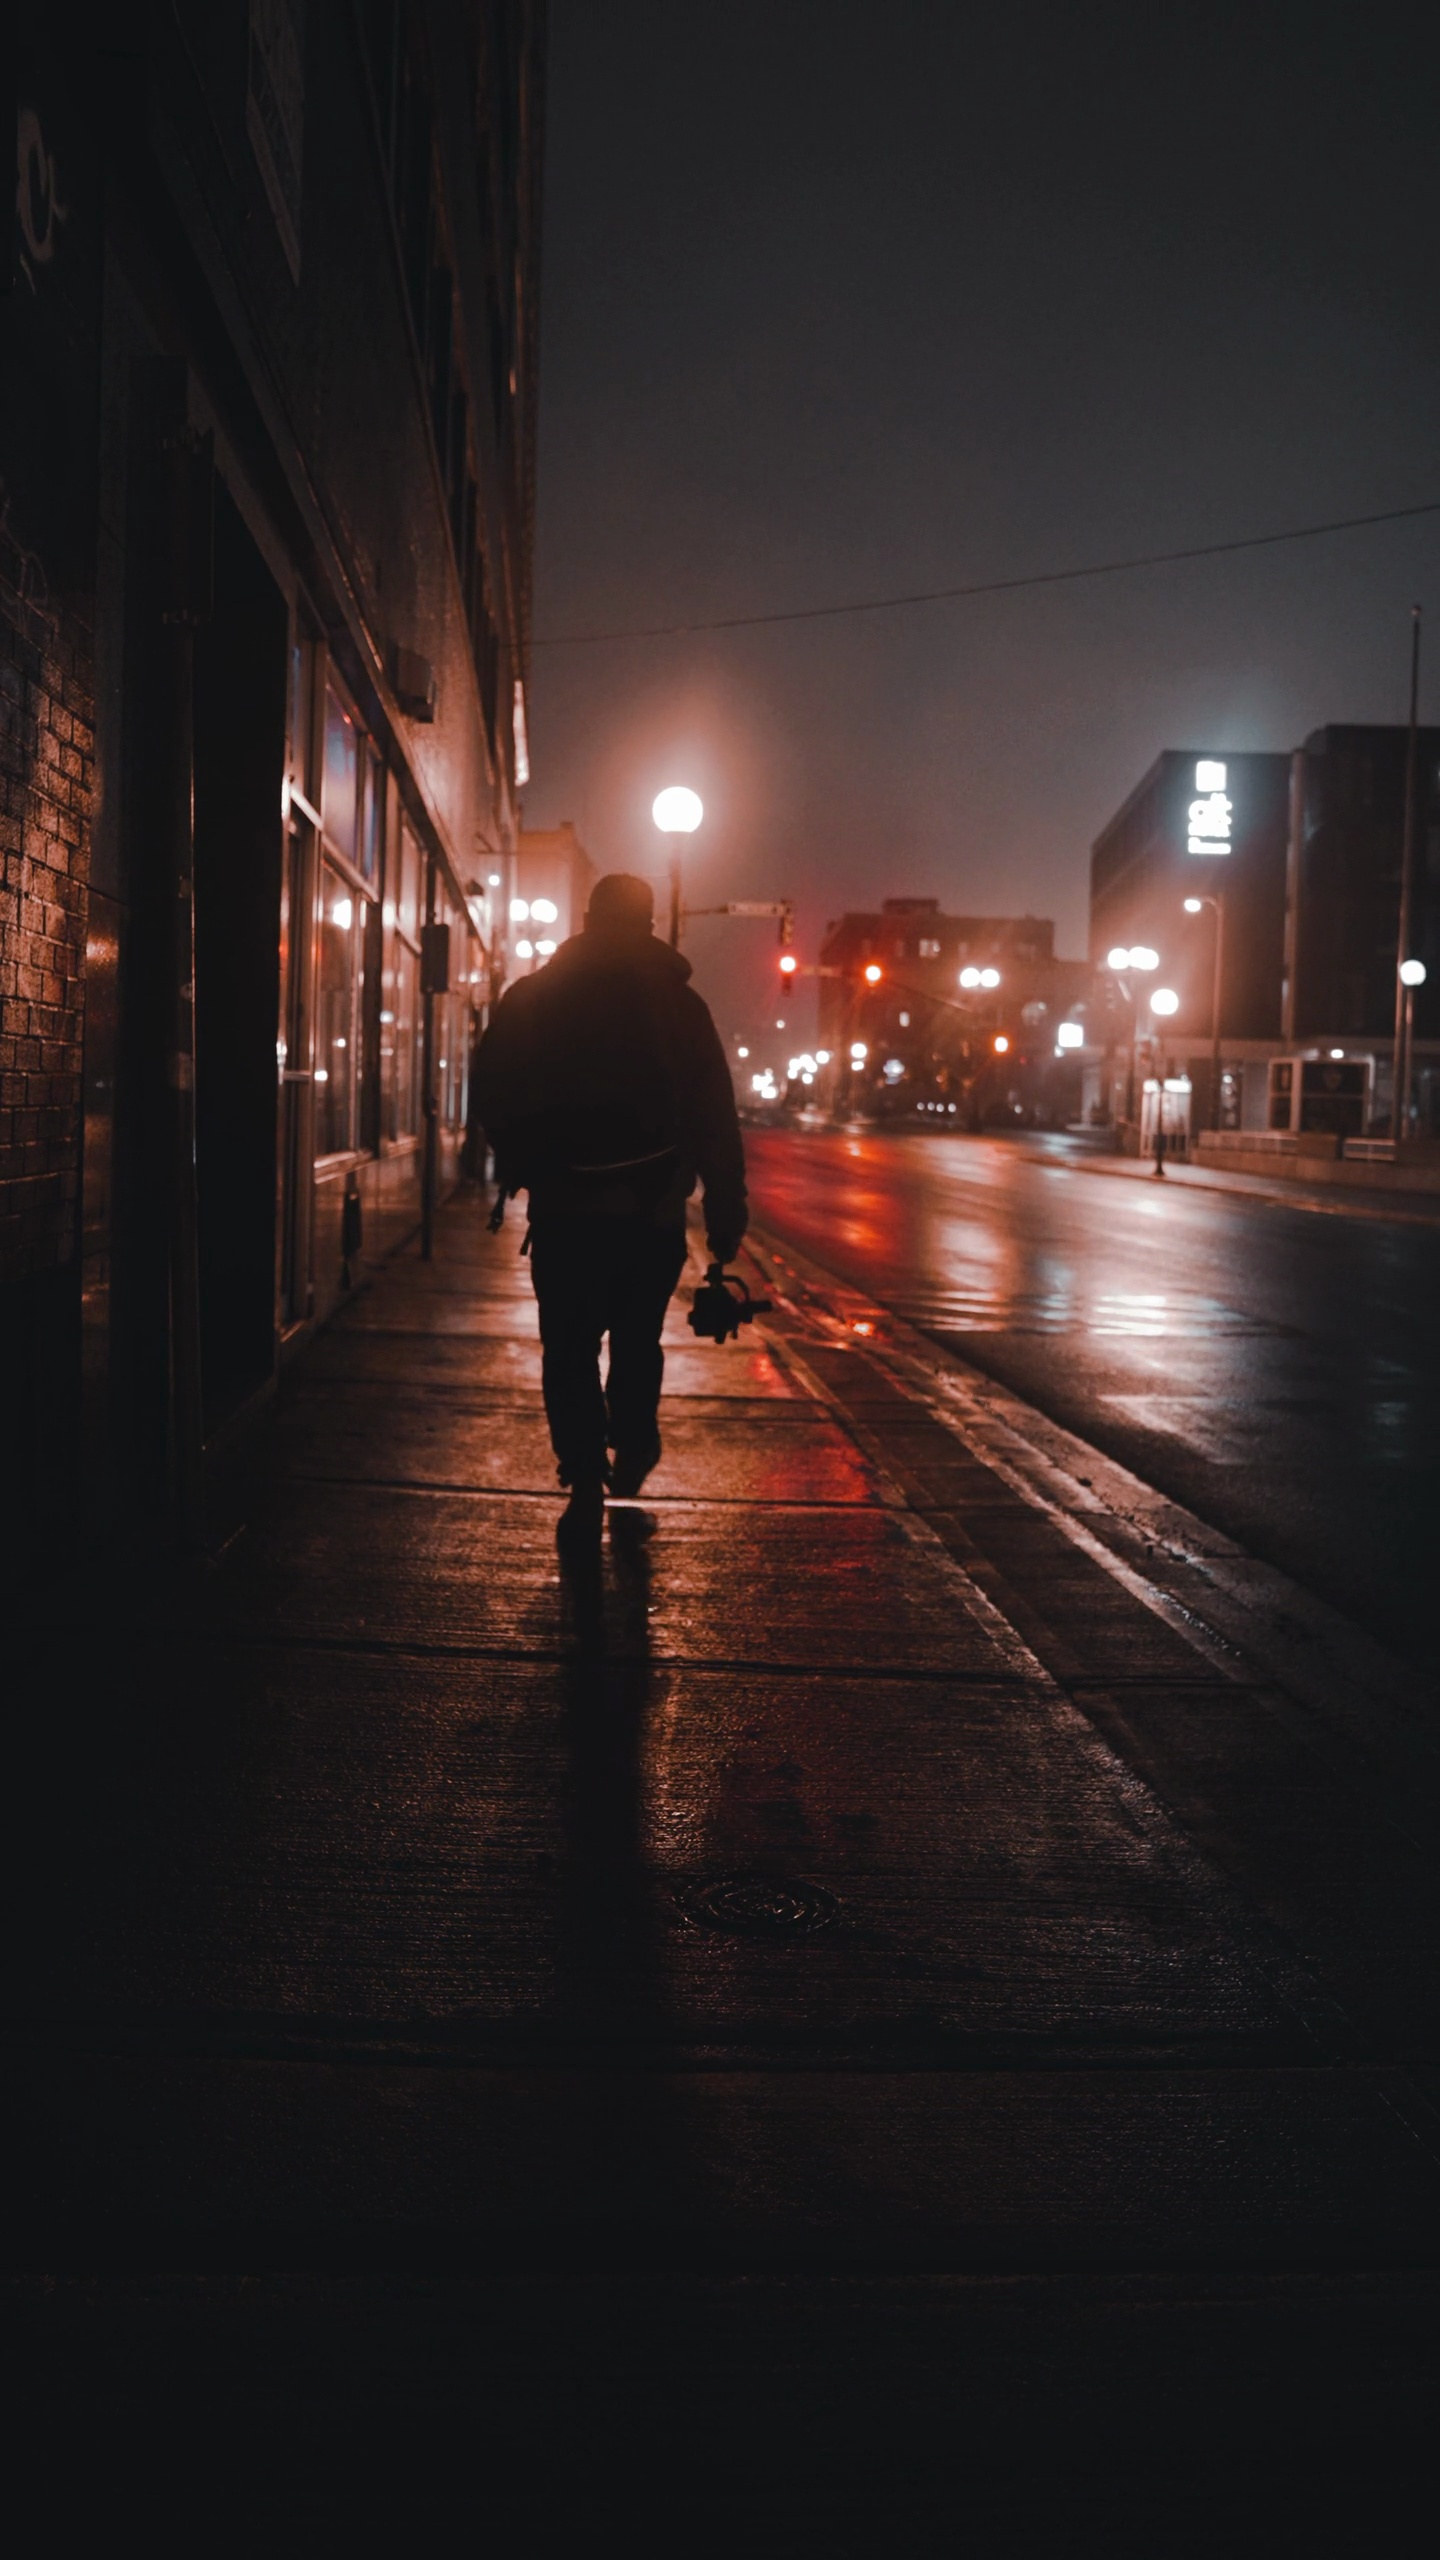person: (473, 870, 748, 1518)
